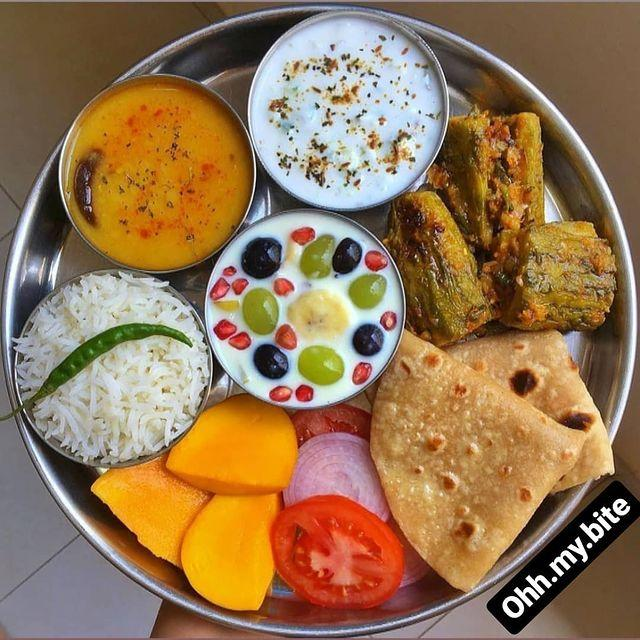Roti: (378, 322, 622, 586)
White Rice: (0, 264, 210, 484)
